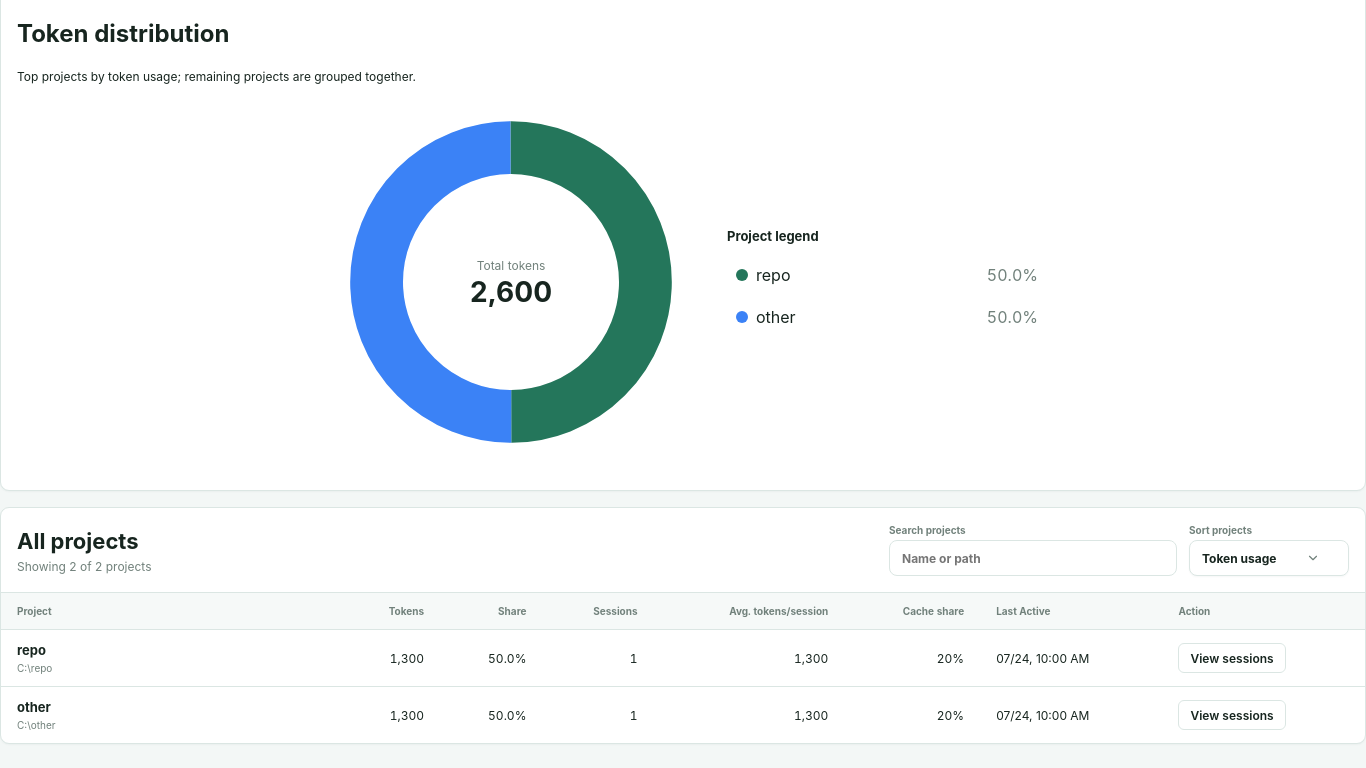
Test: analytics tables › sorts the complete project list by project name
(page scrolled)
What coordinates should you click on to do the following:
click the dropdown named "Sort projects"
I would click on:
 (1269, 558)
Its box is [1189,540,1349,576].
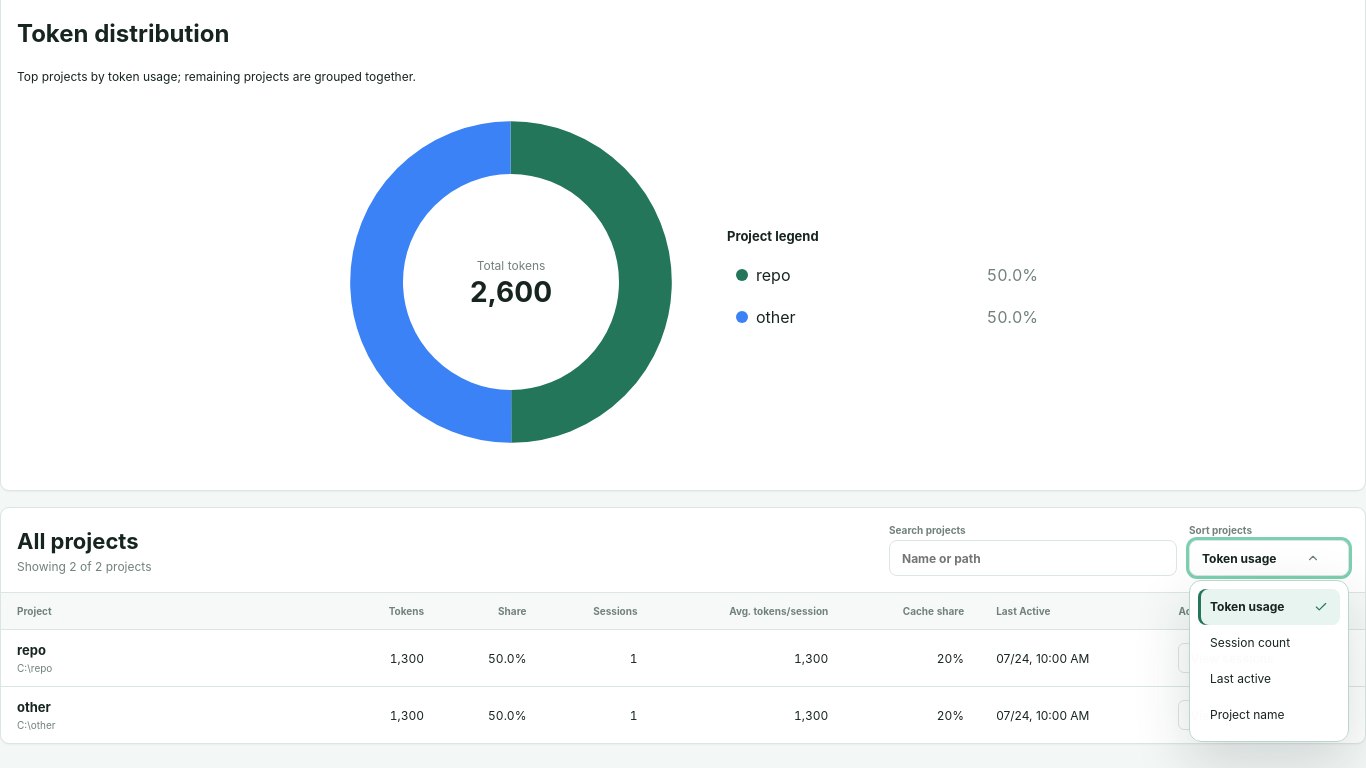
What coordinates should you click on to do the following:
click the option "Project name"
I would click on:
 (1269, 715)
Its box is [1198,697,1340,733].
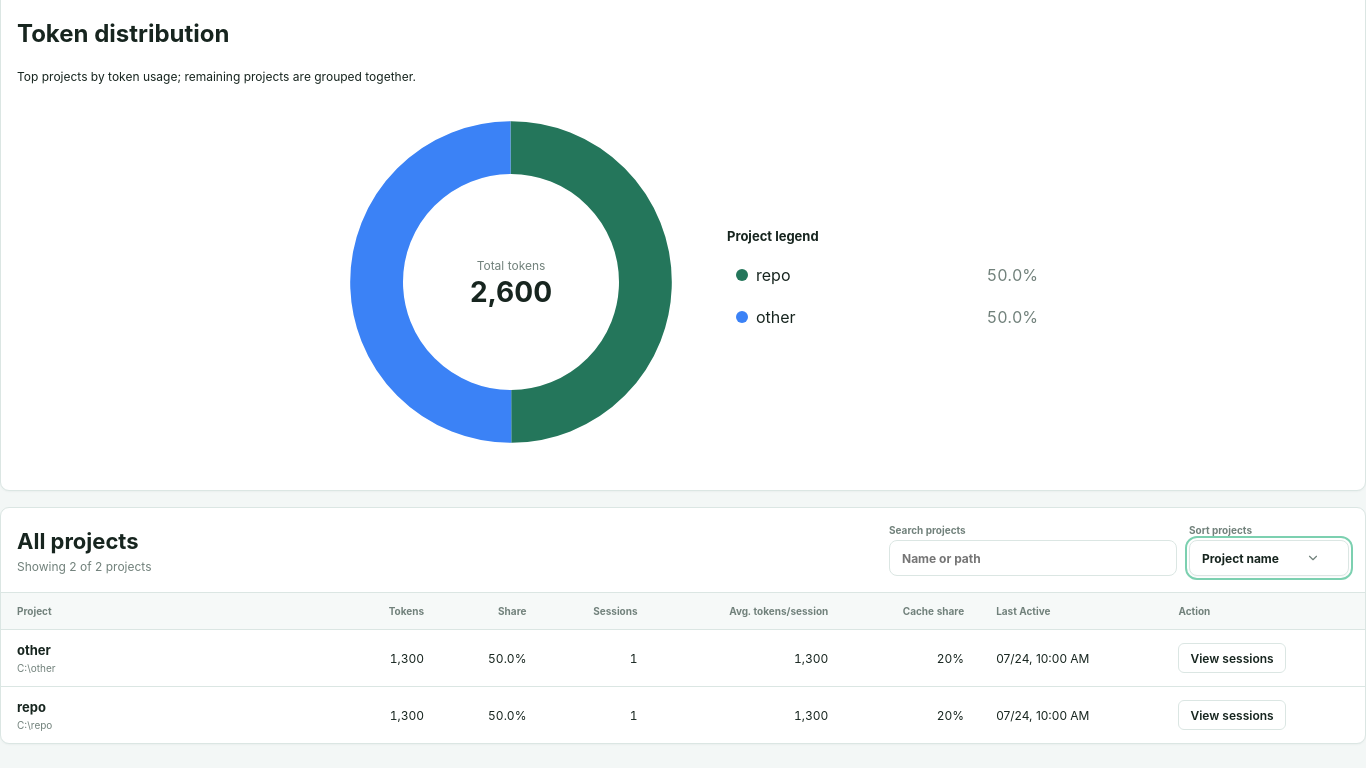
Now the row that starts with "other" is shown, box [17,642,51,658]
Now the row that starts with "repo" is shown, box [17,699,46,715]
